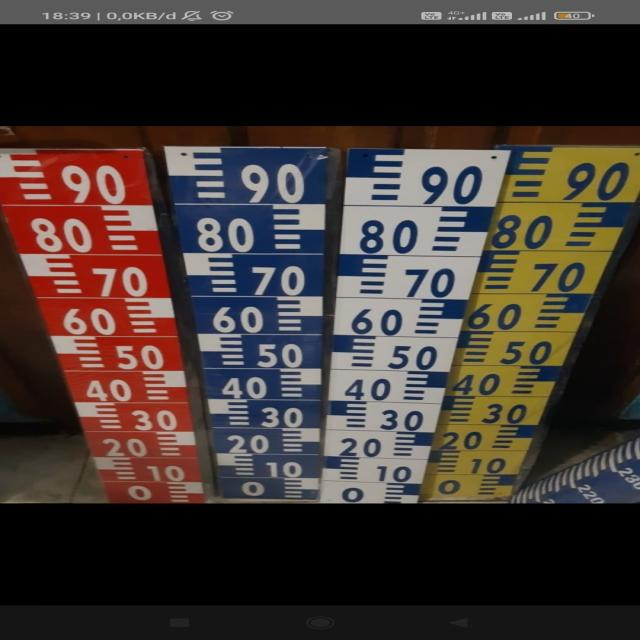10: (372, 464, 417, 485), (466, 456, 510, 477), (266, 460, 308, 480), (145, 464, 185, 482)
20: (337, 435, 389, 458), (96, 436, 149, 458), (223, 432, 269, 454), (440, 430, 485, 450)
30: (484, 401, 529, 425), (130, 409, 178, 431), (379, 408, 424, 431), (256, 407, 304, 428)
40: (449, 372, 501, 398), (215, 375, 269, 399), (340, 378, 394, 402), (81, 379, 136, 402)
50: (498, 339, 556, 367), (249, 342, 306, 368), (109, 343, 163, 369), (389, 343, 437, 371)
60: (56, 305, 120, 336), (468, 303, 524, 332), (348, 309, 408, 336), (210, 307, 268, 334)
70: (247, 264, 310, 297), (530, 261, 593, 294), (88, 266, 149, 297), (402, 266, 456, 300)
80: (24, 218, 98, 252), (190, 217, 258, 252), (490, 216, 560, 250), (358, 219, 420, 254)
90: (233, 162, 310, 204), (58, 163, 130, 205), (562, 162, 633, 200), (419, 166, 485, 204)
staff: (3, 147, 167, 501), (172, 146, 323, 499)
